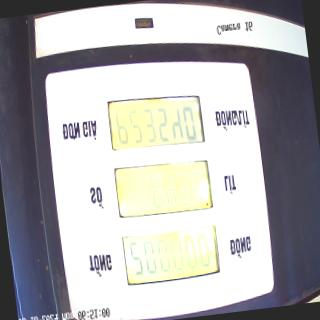screen: (103, 87, 225, 292)
